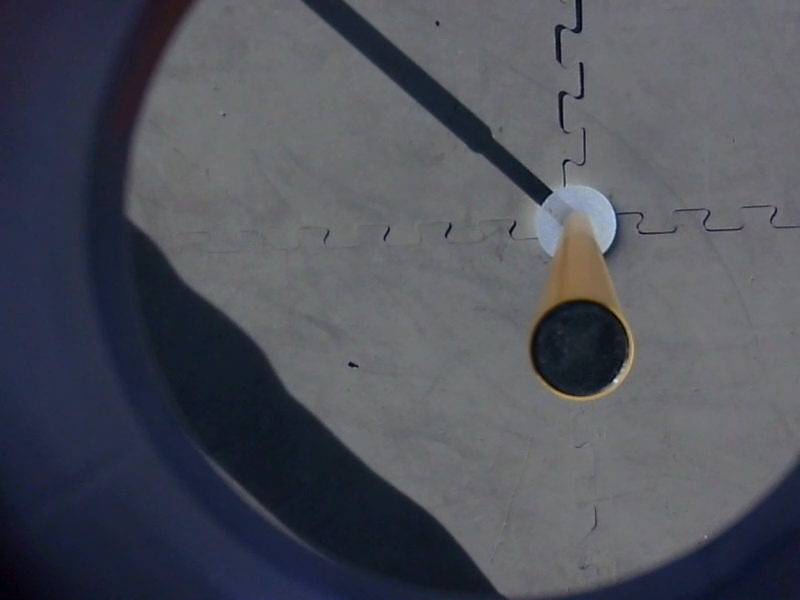tip: (522, 293, 642, 409)
